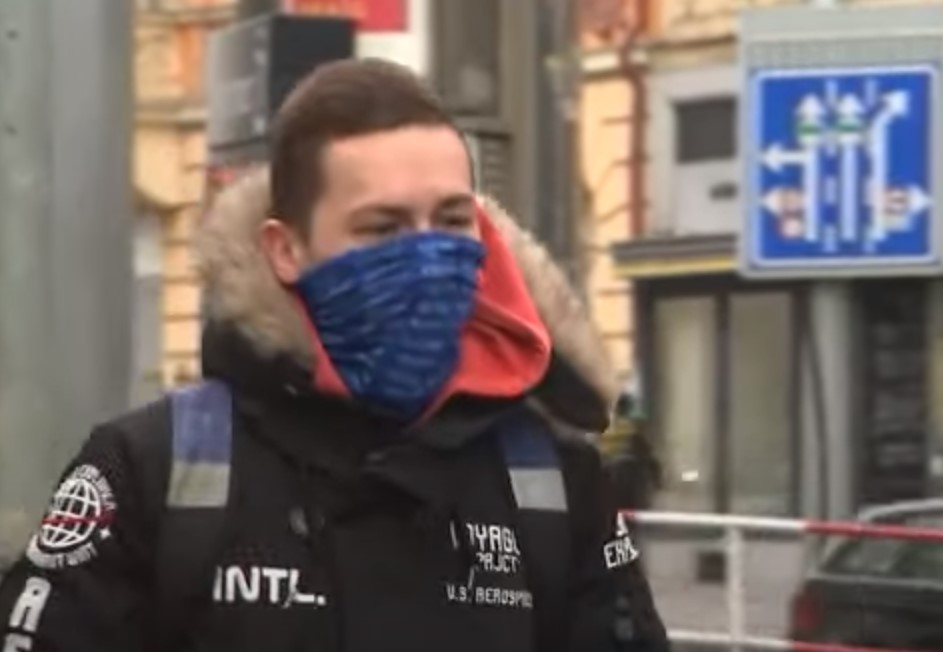face_with_mask: (274, 80, 483, 383)
